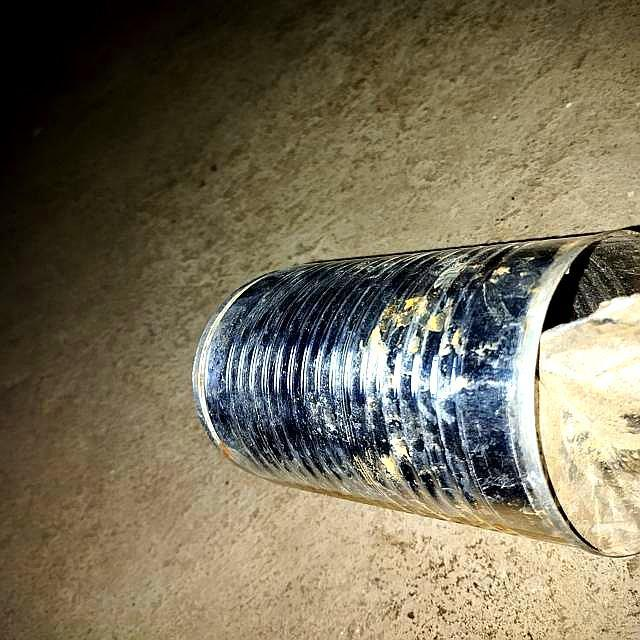Non-biodegradable: (191, 224, 639, 561)
